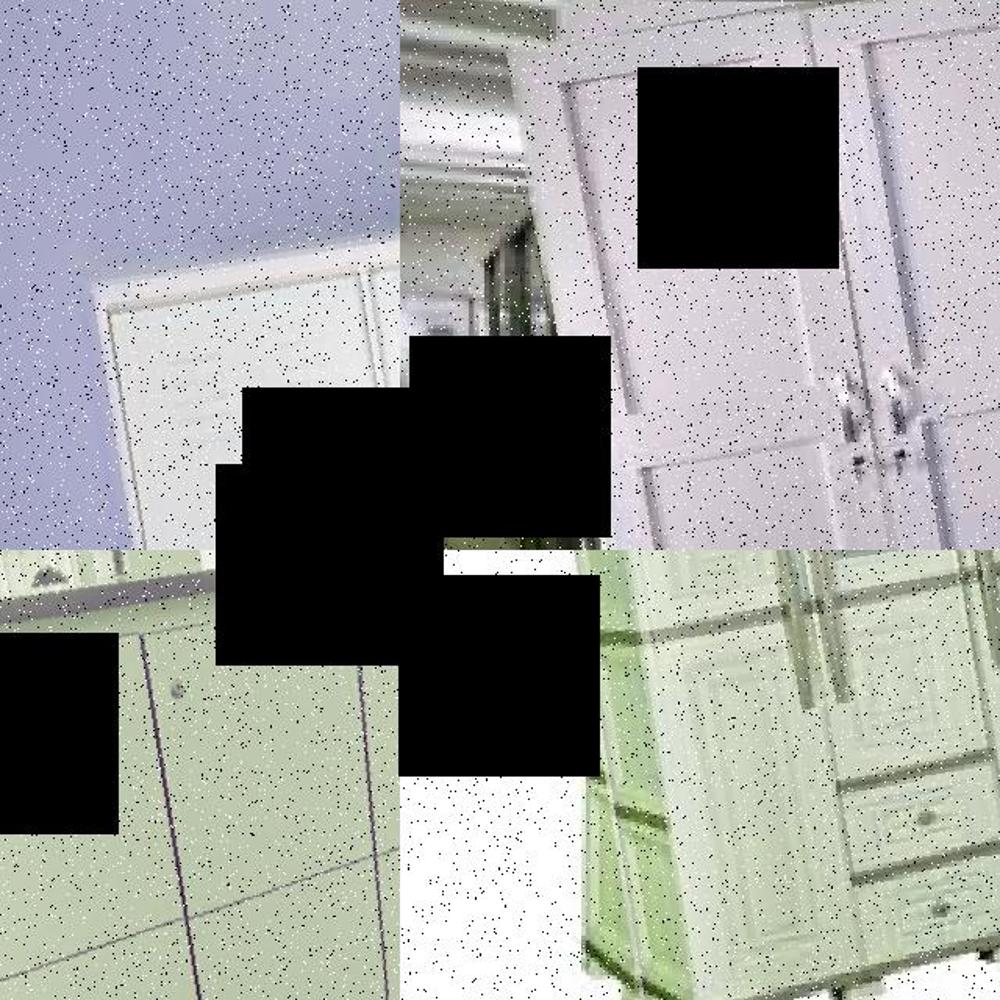cabinet: (536, 0, 1000, 550), (550, 550, 1000, 1000), (0, 550, 400, 1000), (48, 111, 400, 550)
